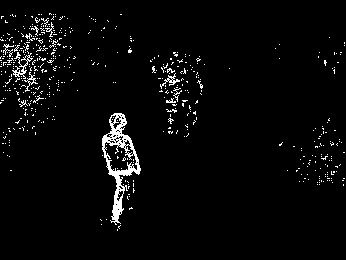person: (101, 110, 141, 230)
